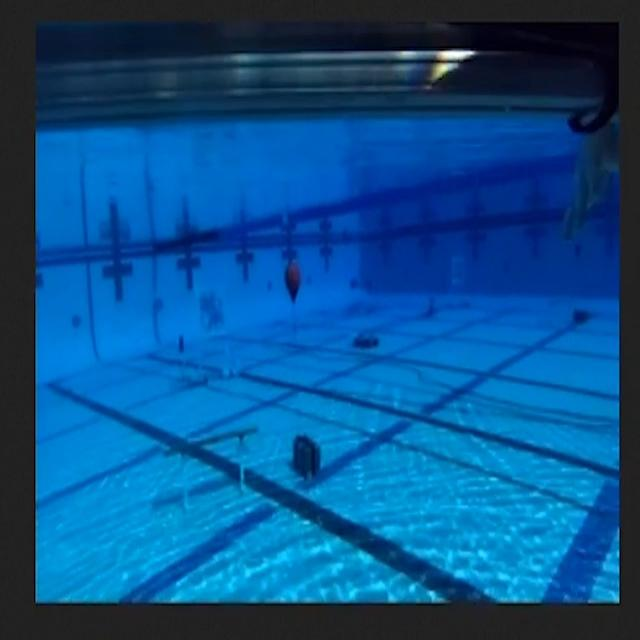Path: (159, 397, 261, 519)
